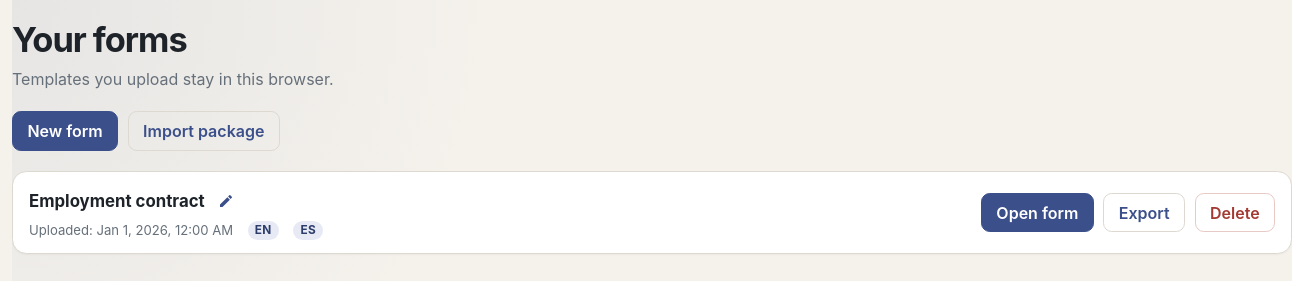
it: LibraryPage › saves a renamed form through the library rename path
This screenshot has width=1292, height=281.
Click the button named "Rename" at (226, 201), box left=211, top=186, right=242, bottom=216
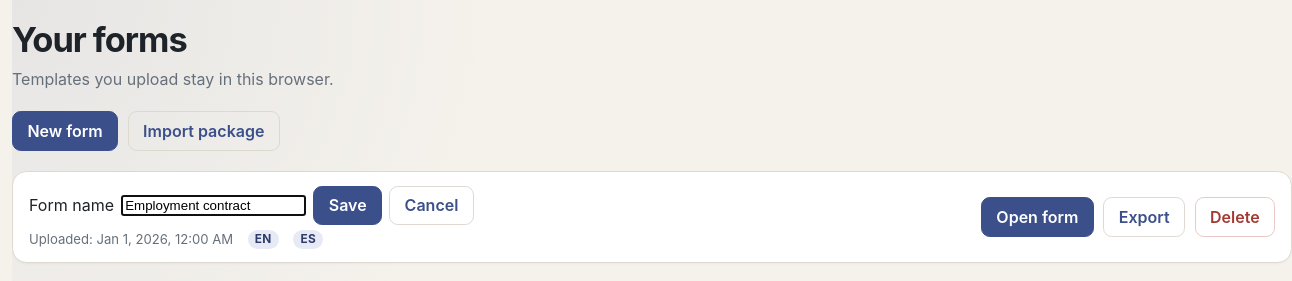
Replace the text in the field labelled "Form name" with "Renamed contract" at (214, 205), box left=121, top=195, right=306, bottom=216
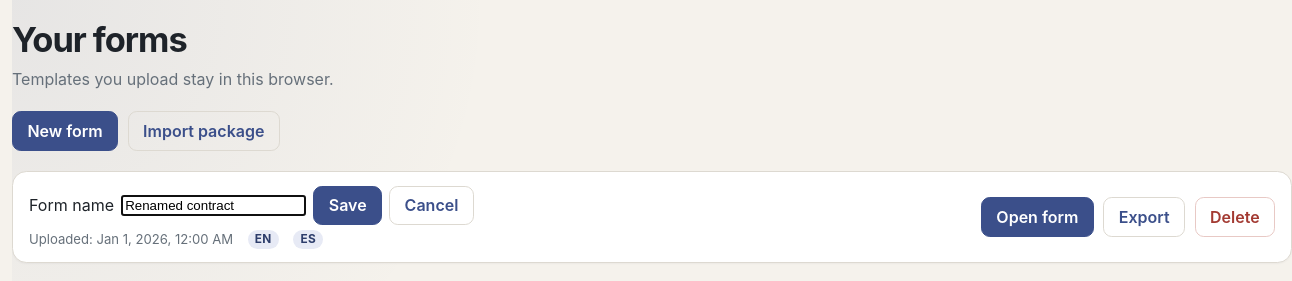
Click the button "Save" at (348, 205), box left=313, top=186, right=382, bottom=225
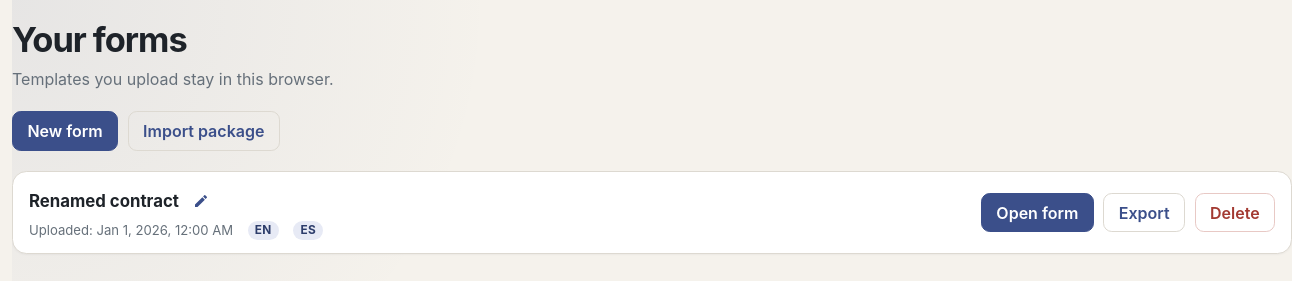
Expected: the link "Renamed contract" is shown, left=29, top=191, right=179, bottom=211
Expected: the label labelled "Form name" is gone
